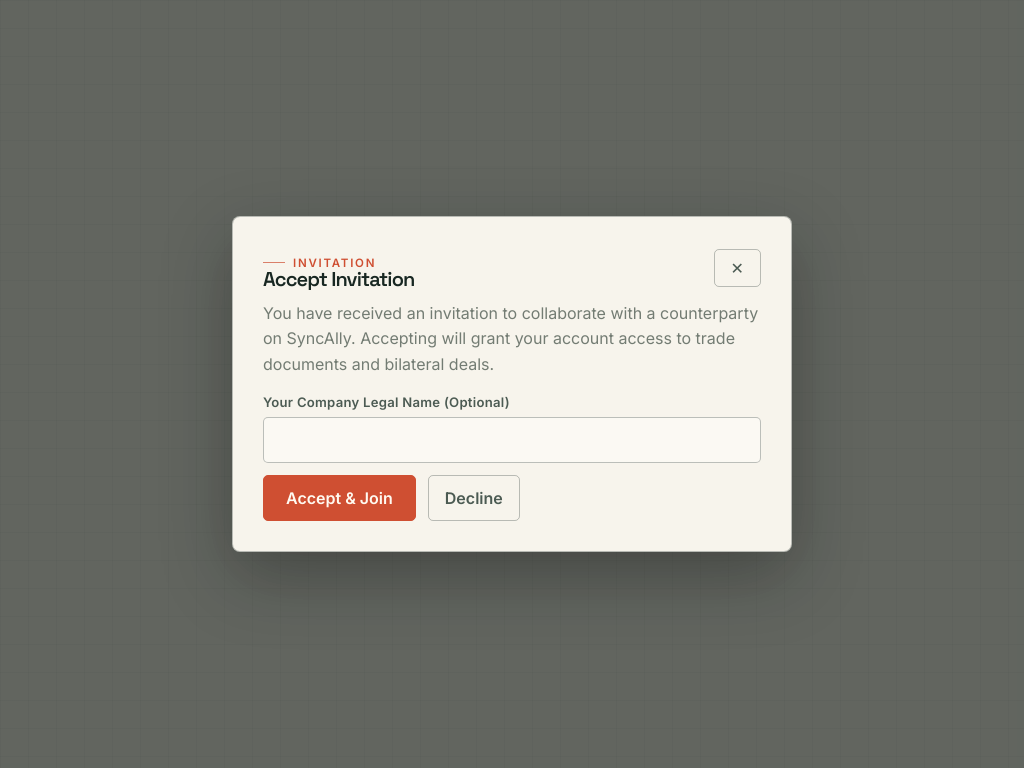
Scenario: OrganizationsSettingsPage › shows the accept invitation flow when opened with invite token in hash
This screenshot has width=1024, height=768.
Expected: the heading "Accept Invitation" is shown, top-left (263, 270), bottom-right (414, 289)
Click the button "Accept & Join": [339, 498] box top-left (263, 475), bottom-right (416, 521)
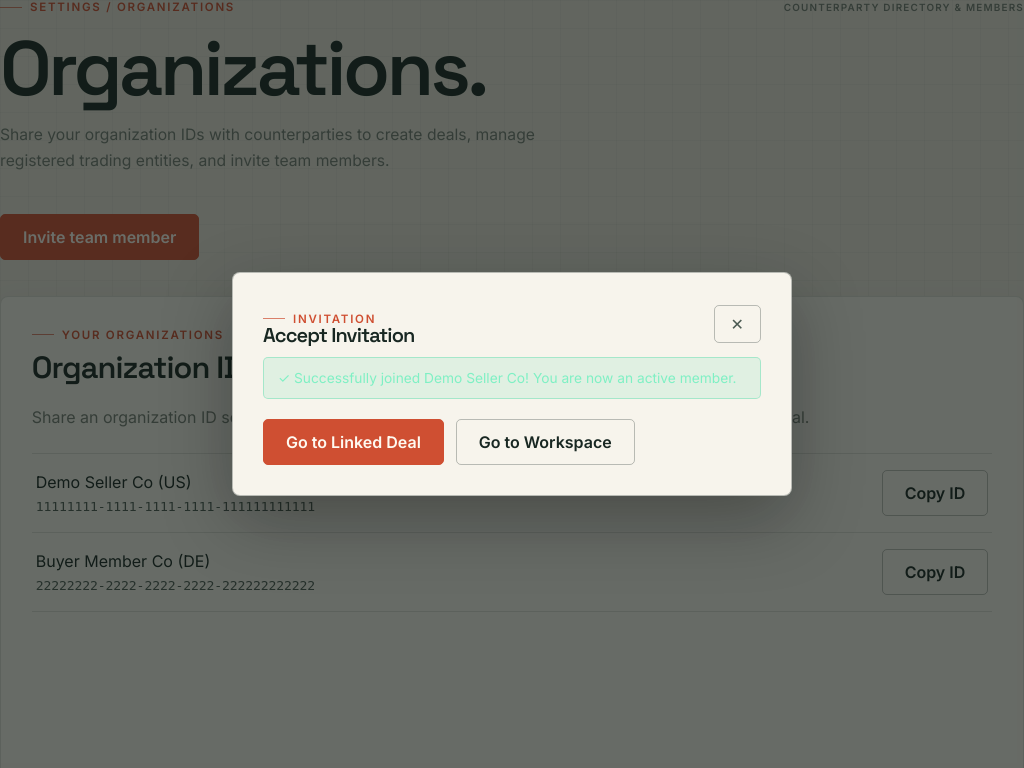
Expected: the text "✓ Successfully joined Demo Seller Co! You are now an active member." is shown, top-left (263, 357), bottom-right (761, 399)
Expected: the button "Go to Linked Deal" is shown, top-left (263, 419), bottom-right (444, 465)
